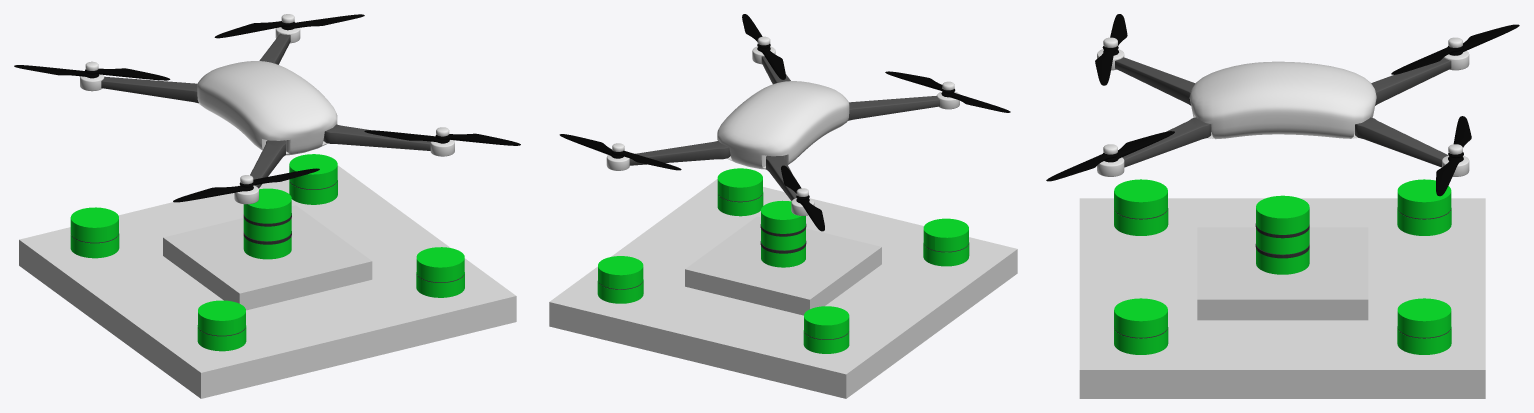
The model's file is drone.gltf.
3 renders of one model, left to right at view 1: azimuth 30°, elevation 25°; view 2: azimuth 150°, elevation 25°; view 3: azimuth 270°, elevation 25°, orthographic. The views are drawn at different scales.
Visible parts, largest first — view 1: Plane.001, Plane.002, Plane, Circle.005, Cylinder.001, Circle.003, Circle.013, Cylinder.002, Circle.016, Circle.001, Circle.018, Circle.017 (+3 smaller); view 2: Plane.001, Plane.002, Plane, Circle.005, Cylinder.001, Circle.003, Circle.013, Cylinder.002, Circle.017, Circle.018, Circle.016, Circle.001 (+3 smaller); view 3: Plane.001, Plane.002, Plane, Circle.005, Cylinder.001, Circle.003, Circle.013, Cylinder.002, Circle.001, Circle.016, Circle.018, Circle.006 (+3 smaller).
Part boxes in pixels (<box>): Plane.001: <box>19,165,516,398</box>; Plane.002: <box>163,205,372,310</box>; Plane: <box>197,61,337,155</box>; Circle.005: <box>70,154,464,335</box>; Cylinder.001: <box>101,33,430,188</box>; Circle.003: <box>70,180,464,351</box>; Circle.013: <box>243,188,291,223</box>; Cylinder.002: <box>80,27,454,204</box>; Circle.016: <box>14,65,170,80</box>; Circle.001: <box>364,130,520,145</box>; Circle.018: <box>214,14,364,38</box>; Circle.017: <box>173,168,319,202</box>; Plane.001: <box>549,179,1017,398</box>; Plane.002: <box>685,216,881,315</box>; Plane: <box>717,81,849,169</box>; Circle.005: <box>598,168,968,339</box>; Cylinder.001: <box>629,56,939,200</box>; Circle.003: <box>597,192,969,353</box>; Circle.013: <box>761,200,805,233</box>; Cylinder.002: <box>606,46,959,215</box>; Circle.017: <box>885,71,1010,112</box>; Circle.018: <box>559,134,681,170</box>; Circle.016: <box>781,165,824,231</box>; Circle.001: <box>742,14,785,79</box>; Plane.001: <box>1079,198,1485,398</box>; Plane.002: <box>1197,227,1368,320</box>; Plane: <box>1189,61,1376,139</box>; Circle.005: <box>1114,179,1451,337</box>; Cylinder.001: <box>1115,57,1451,167</box>; Circle.003: <box>1114,208,1451,354</box>; Circle.013: <box>1256,195,1309,234</box>; Cylinder.002: <box>1097,49,1469,176</box>; Circle.001: <box>1046,131,1174,181</box>; Circle.016: <box>1391,24,1519,74</box>; Circle.018: <box>1436,116,1471,196</box>; Circle.006: <box>1256,248,1309,274</box>.
Bounding box in the file's own units: 5.95 × 3.67 × 6.53.
